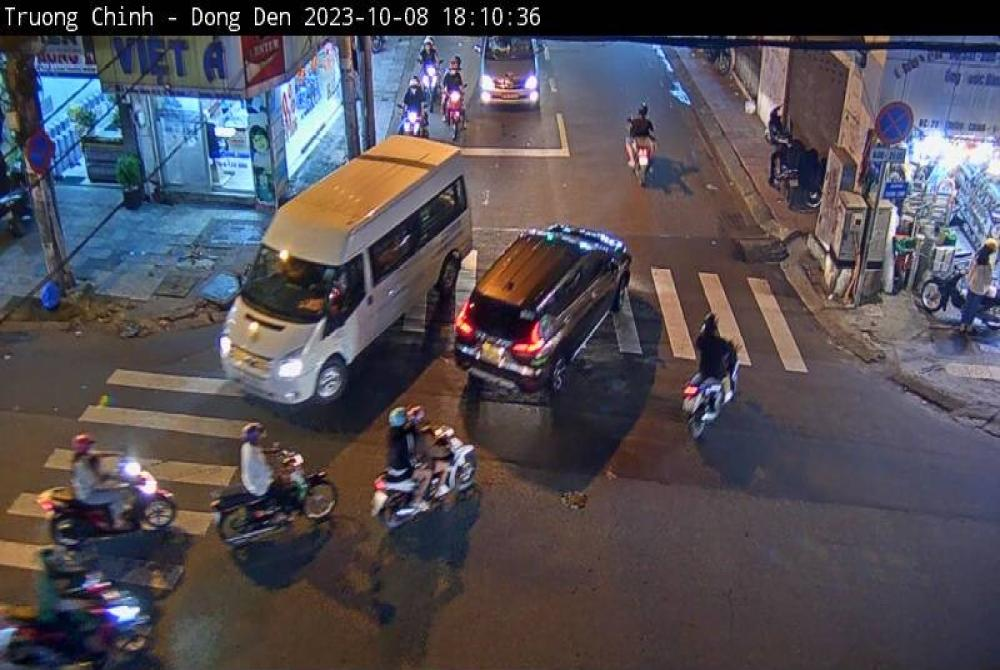car: (185, 122, 474, 398), (457, 217, 626, 404)
